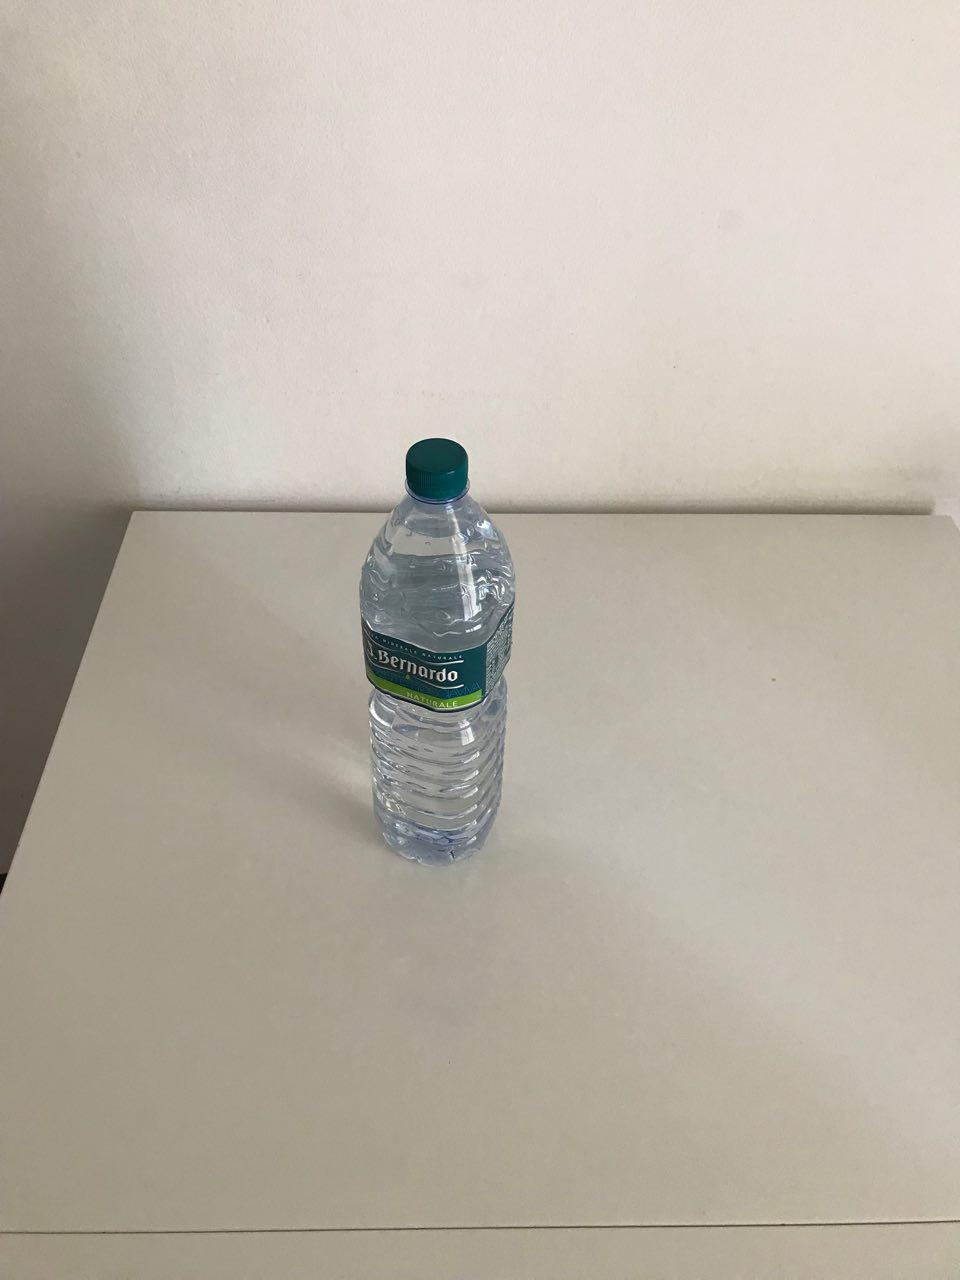san_bernardo: (358, 436, 519, 870)
